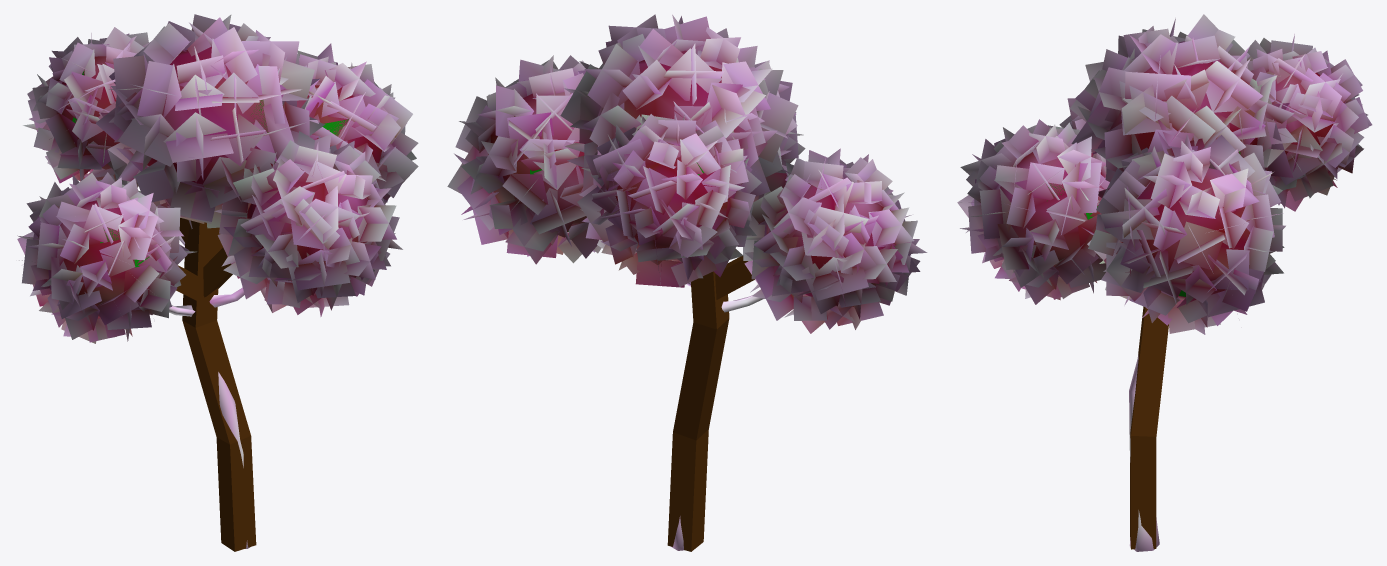
The model's file is Tree_C_Pack.fbx.
The picture shows the model from 3 angles, left to right: view 1: azimuth 30°, elevation 25°; view 2: azimuth 150°, elevation 25°; view 3: azimuth 270°, elevation 25°; orthographic projection. The views are drawn at different scales.
Visible parts, largest first — view 1: Tree_C_Normal, Tree_C_Abstract; view 2: Tree_C_Normal, Tree_C_Abstract; view 3: Tree_C_Normal, Tree_C_Abstract.
Boxes of the visible parts, x1=… form: Tree_C_Normal: x1=17, y1=14, x2=418, y2=548; Tree_C_Abstract: x1=72, y1=71, x2=348, y2=551; Tree_C_Normal: x1=447, y1=14, x2=927, y2=550; Tree_C_Abstract: x1=514, y1=116, x2=754, y2=551; Tree_C_Normal: x1=957, y1=14, x2=1372, y2=551; Tree_C_Abstract: x1=1047, y1=151, x2=1240, y2=549.
Size of what is drawn, in the model's own units: 1004 by 1242 by 913.
